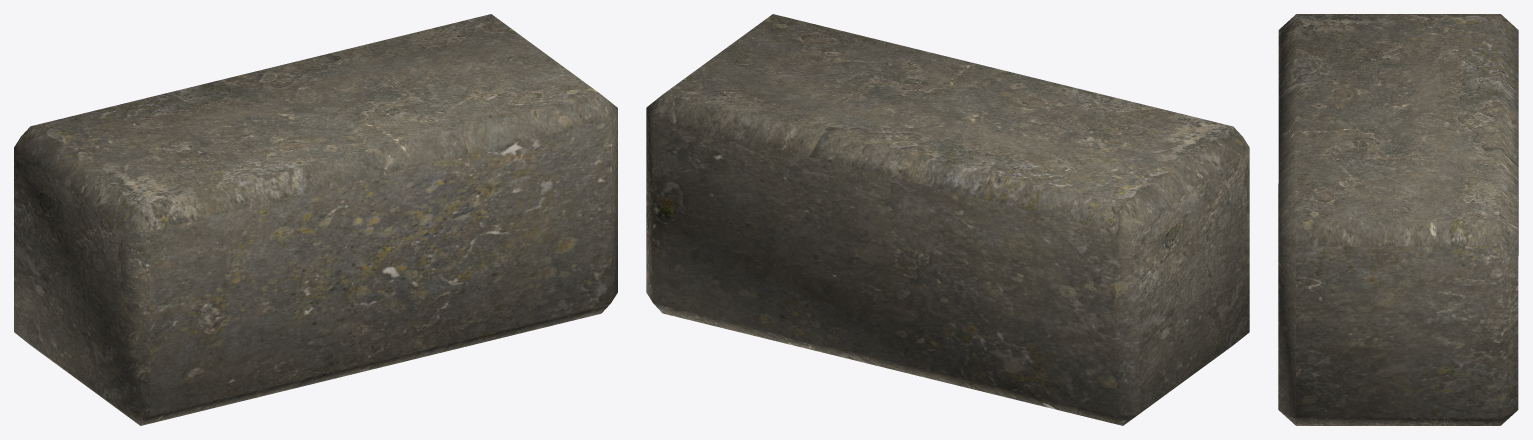
Rendered from Ruins door plate.fbx.
3 views of the same model, side by side, from view 1: azimuth 30°, elevation 25°; view 2: azimuth 150°, elevation 25°; view 3: azimuth 270°, elevation 25° (orthographic). The views are drawn at different scales.
Parts seen in each view (by area): view 1: 立方体; view 2: 立方体; view 3: 立方体.
Part boxes in pixels (<box>): 立方体: <box>14,14,617,425</box>; 立方体: <box>646,14,1249,425</box>; 立方体: <box>1278,14,1518,425</box>.
Size of the model in its own units: 17.91 by 7.59 by 8.13.
